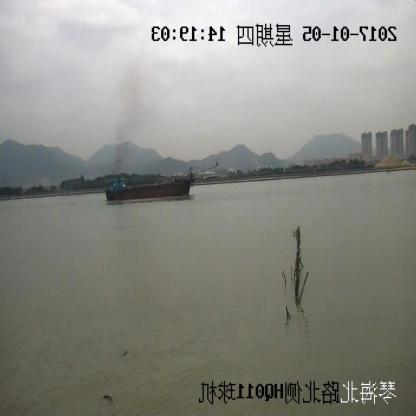Bulk Carrier: (105, 165, 218, 202)
